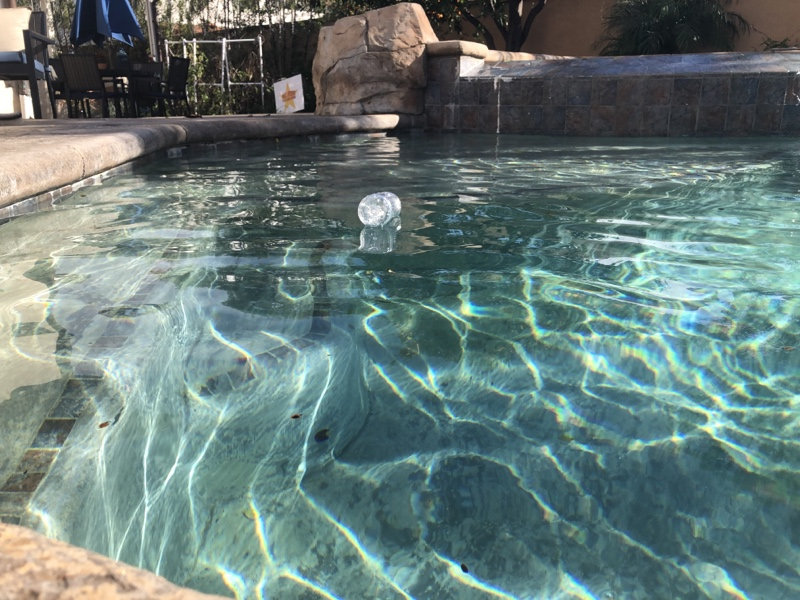Plastic Bottle: (353, 187, 404, 231)
